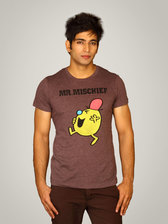clothoes: (31, 65, 133, 187)
